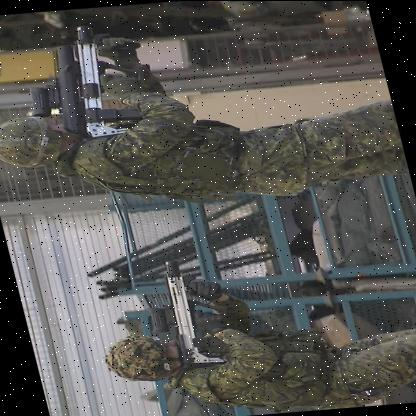rifle: (32, 23, 148, 137), (153, 256, 227, 366)
